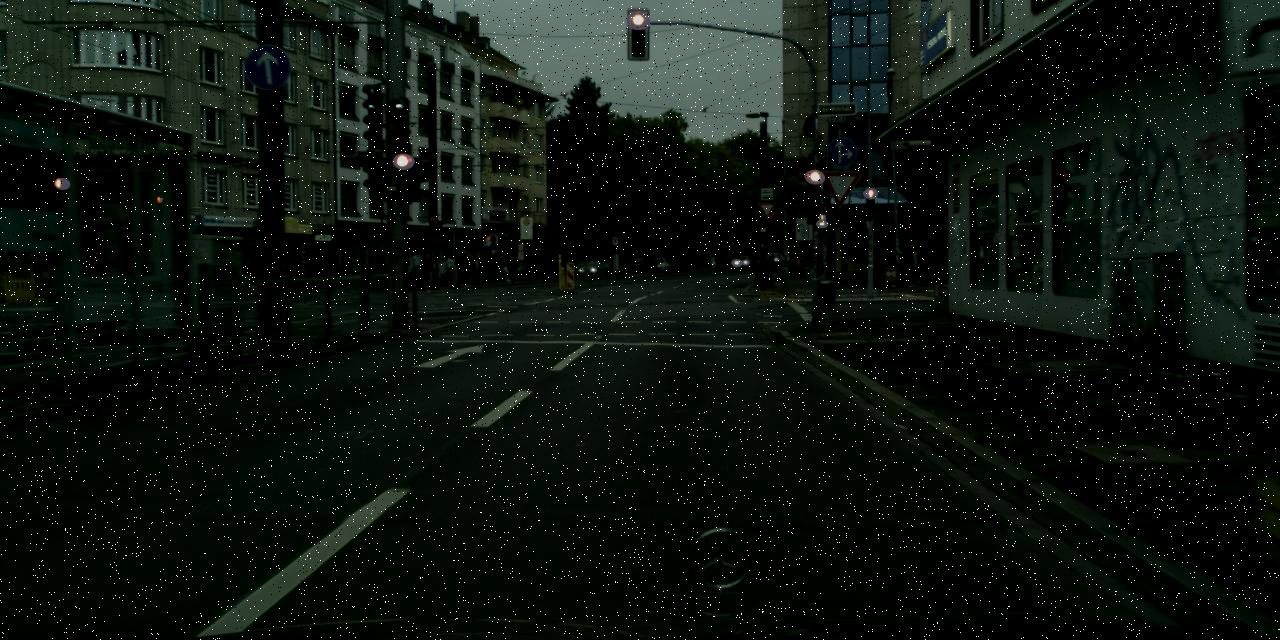ped: (456, 250, 510, 286), (904, 244, 920, 286), (420, 252, 435, 290), (763, 252, 778, 288), (894, 248, 908, 286), (547, 249, 560, 280), (525, 249, 537, 280)
